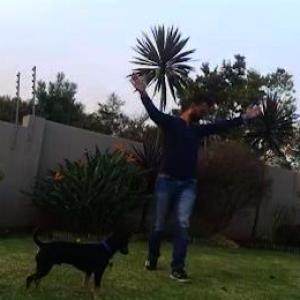takeoff: (132, 65, 280, 262)
